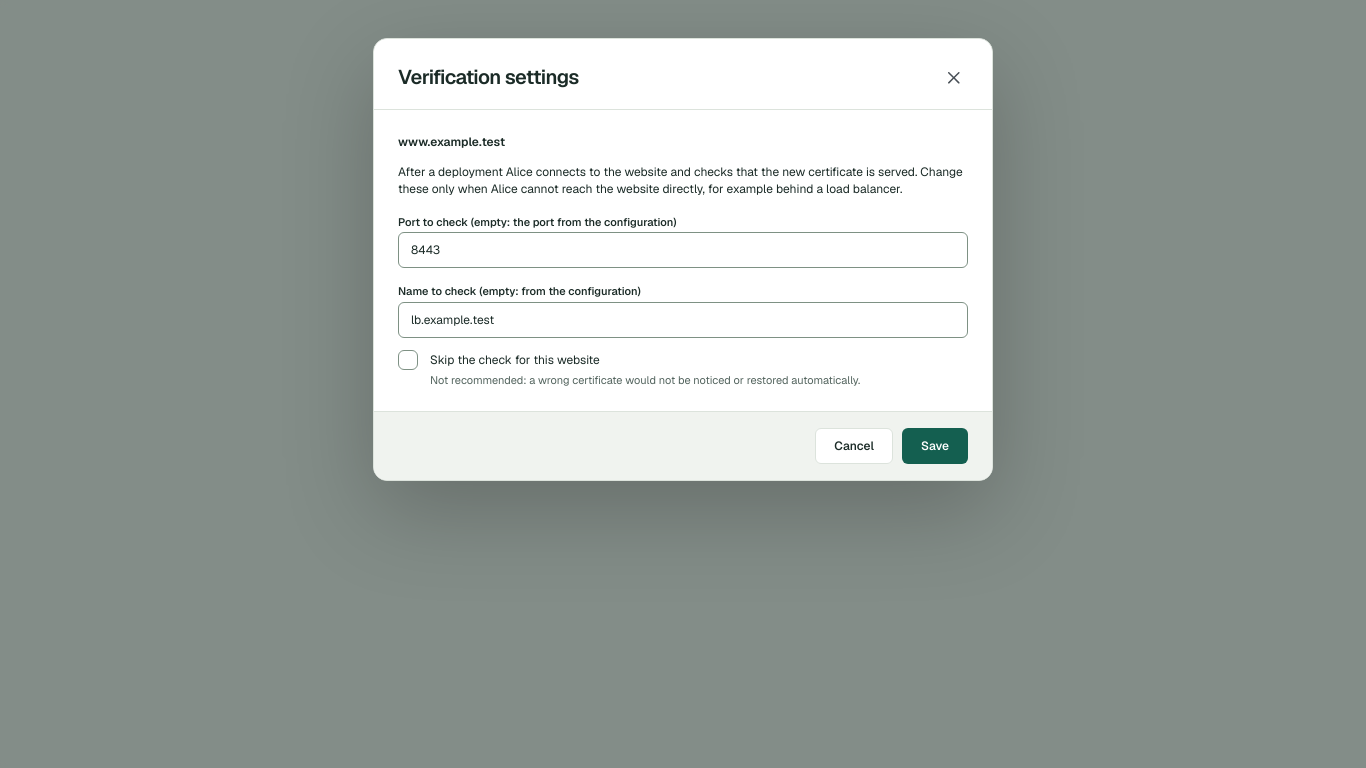
Scenario: LocationSettingsDialog › sends only the changed fields with the version as If-Match, and tells that it saved
Expected: the field labelled "Name to check (empty: from the configuration)" holds "lb.example.test", [398,302,968,338]
Replace the text in the field labelled "Port to check (empty: the port from the configuration)" with "9443" at (683, 250), box [398,232,968,268]
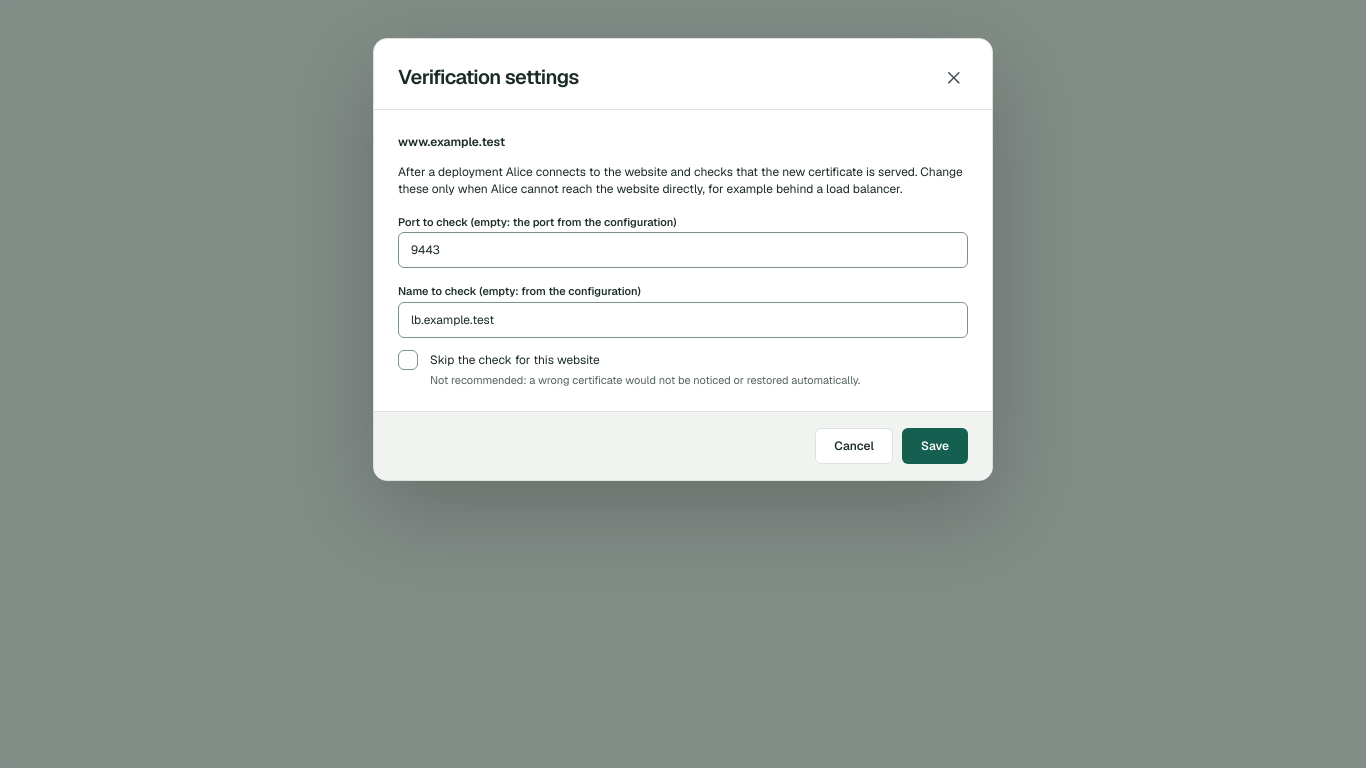
Click the button "Save" at (935, 446), box [902,428,968,464]
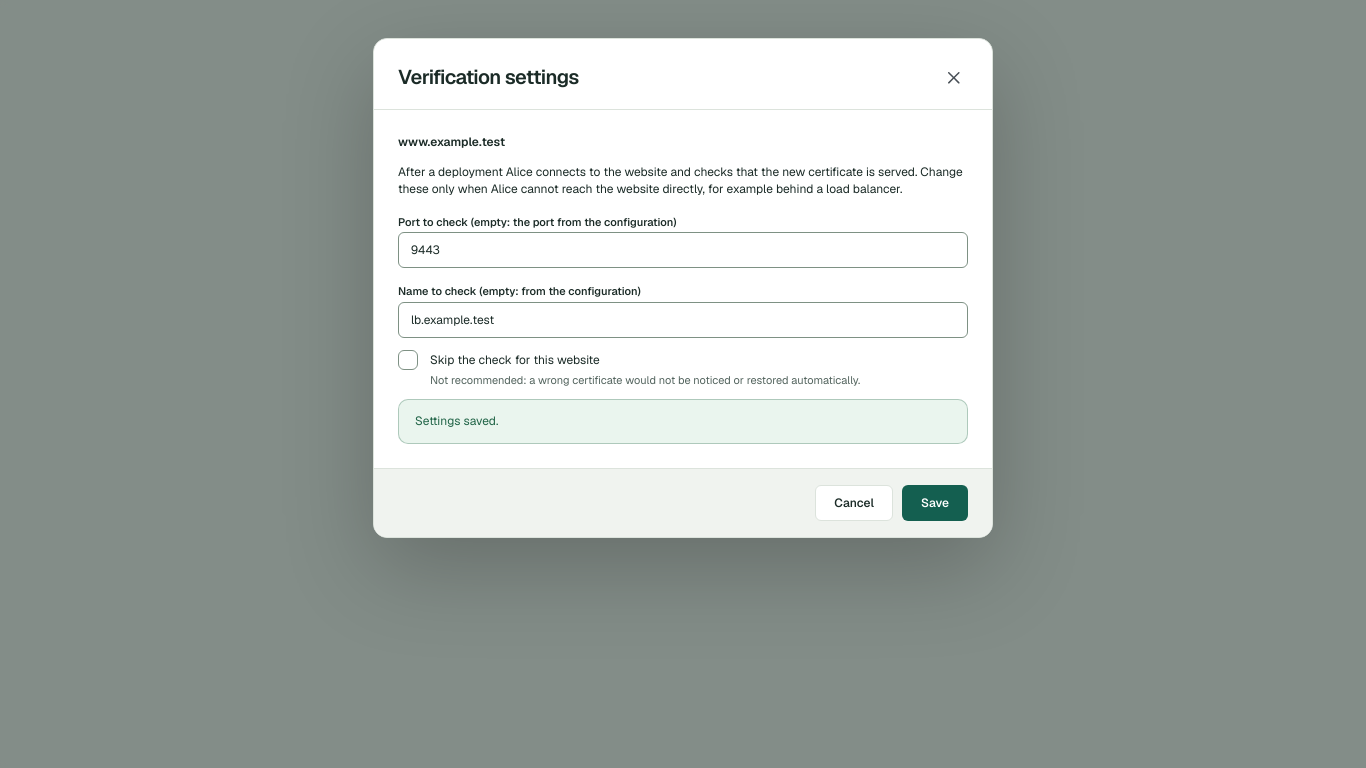
Expected: the text "Settings saved." is shown, [415,413,498,429]
